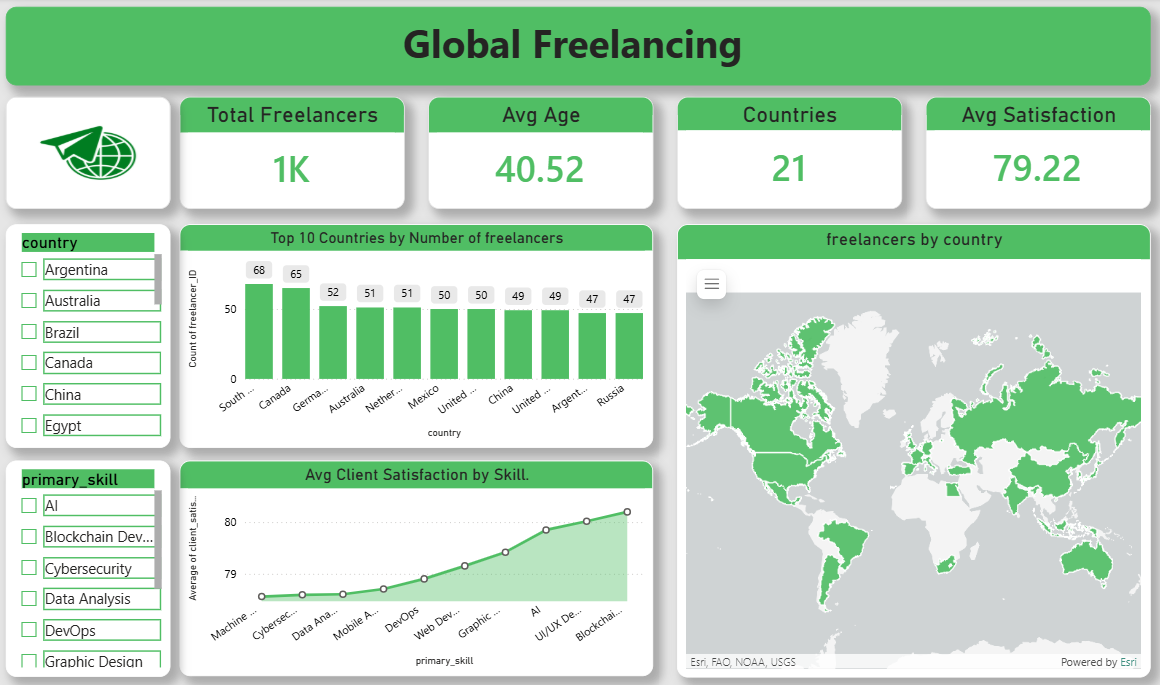

What the dashboard file says about the page in this screenshot:
{"tool":"powerbi","page":{"name":"Page 1","canvas":[1280,755],"ordinal":0},"visuals":[{"type":"textbox","box":[9.6,9.6,1257,86.4],"z":0},{"type":"cardVisual","title":"Total Freelancers","fields":{"Data":["CountNonNull(cleaned_data.freelancer_ID)"]},"box":[200.3,108.4,247,123.5],"z":1000},{"type":"cardVisual","title":"Avg Age","fields":{"Data":["Avg(cleaned_data.age)"]},"box":[473.4,108.4,247,123.5],"z":2000},{"type":"cardVisual","title":"Countries","fields":{"Data":["Count(cleaned_data.country)"]},"box":[746.5,108.4,247,123.5],"z":3000},{"type":"cardVisual","title":"Avg Satisfaction","fields":{"Data":["Avg(cleaned_data.client_satisfaction)"]},"box":[1019.6,108.4,247,123.5],"z":4000},{"type":"columnChart","title":"Top 10 Countries by Number of freelancers","fields":{"Category":["cleaned_data.country"],"Y":["CountNonNull(cleaned_data.freelancer_ID)"]},"box":[200.7,248.3,519.8,245.7],"z":5000},{"type":"areaChart","title":"Avg Client Satisfaction by Skill.","fields":{"Category":["cleaned_data.primary_skill"],"Y":["Avg(cleaned_data.client_satisfaction)"]},"box":[200.7,508.2,519.8,236.7],"z":7000},{"type":"image","box":[9.6,108.4,181.1,123.5],"z":8000},{"type":"slicer","fields":{"Values":["cleaned_data.country"]},"box":[9.6,248.4,181.1,245.6],"z":9000},{"type":"slicer","fields":{"Values":["cleaned_data.primary_skill"]},"box":[9.6,507.7,181.1,237.4],"z":10000},{"type":"esriVisual","title":"freelancers by country","fields":{"Location":["cleaned_data.country"],"Longitude":["cleaned_data.gender"]},"box":[746.3,248.3,519.8,497.9],"z":11000}]}

Visuals, with their boxes in screenshot pixels (x1, y1, x2, y2), scaled from the page's 1280x755 canvas onto the 1160x685 screenshot:
textbox: [x1=9, y1=9, x2=1148, y2=87]
"Total Freelancers" cardVisual: [x1=182, y1=98, x2=405, y2=210]
"Avg Age" cardVisual: [x1=429, y1=98, x2=653, y2=210]
"Countries" cardVisual: [x1=677, y1=98, x2=900, y2=210]
"Avg Satisfaction" cardVisual: [x1=924, y1=98, x2=1148, y2=210]
"Top 10 Countries by Number of freelancers" columnChart: [x1=182, y1=225, x2=653, y2=448]
"Avg Client Satisfaction by Skill." areaChart: [x1=182, y1=461, x2=653, y2=676]
image: [x1=9, y1=98, x2=173, y2=210]
slicer - cleaned_data.country: [x1=9, y1=225, x2=173, y2=448]
slicer - cleaned_data.primary_skill: [x1=9, y1=461, x2=173, y2=676]
"freelancers by country" esriVisual: [x1=676, y1=225, x2=1147, y2=677]
